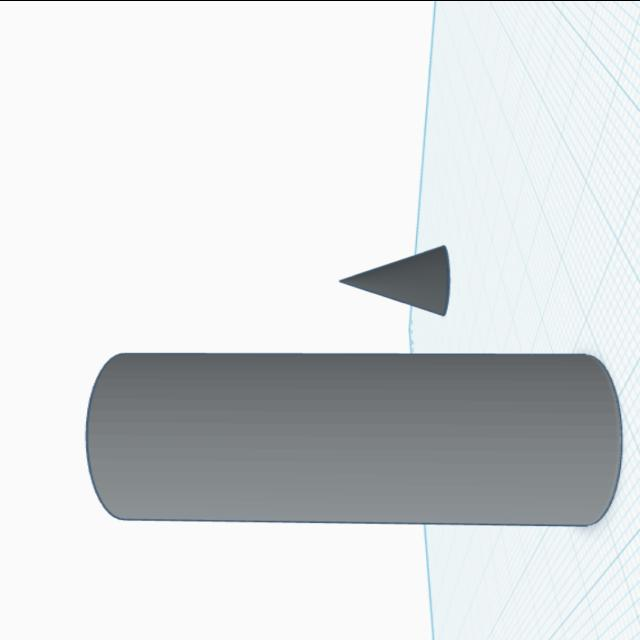cone: (336, 240, 457, 318)
